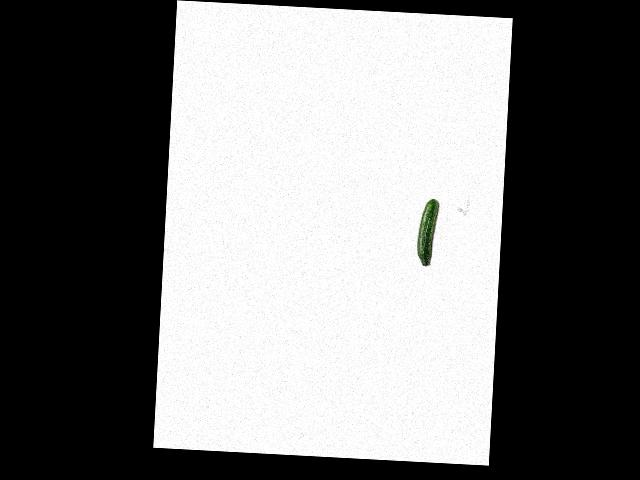cucumber: (416, 197, 439, 266)
